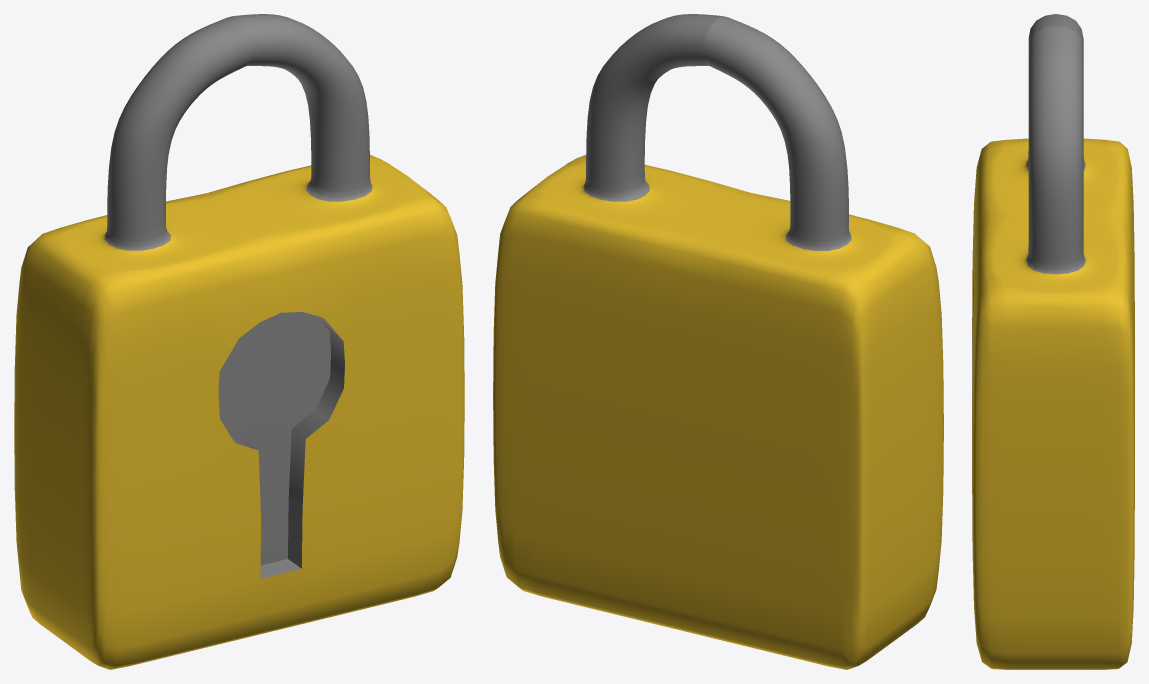
File: Candado.fbx
3 views of the same model, side by side, from view 1: azimuth 30°, elevation 25°; view 2: azimuth 150°, elevation 25°; view 3: azimuth 270°, elevation 25° (orthographic). The views are drawn at different scales.
Visible parts, largest first — view 1: Candado; view 2: Candado; view 3: Candado.
Boxes of the visible parts, <box> form: Candado: <box>14,14,464,669</box>; Candado: <box>493,14,943,669</box>; Candado: <box>972,14,1134,669</box>.
Bounding box in the file's own units: 1.99 × 3.01 × 0.7809.
